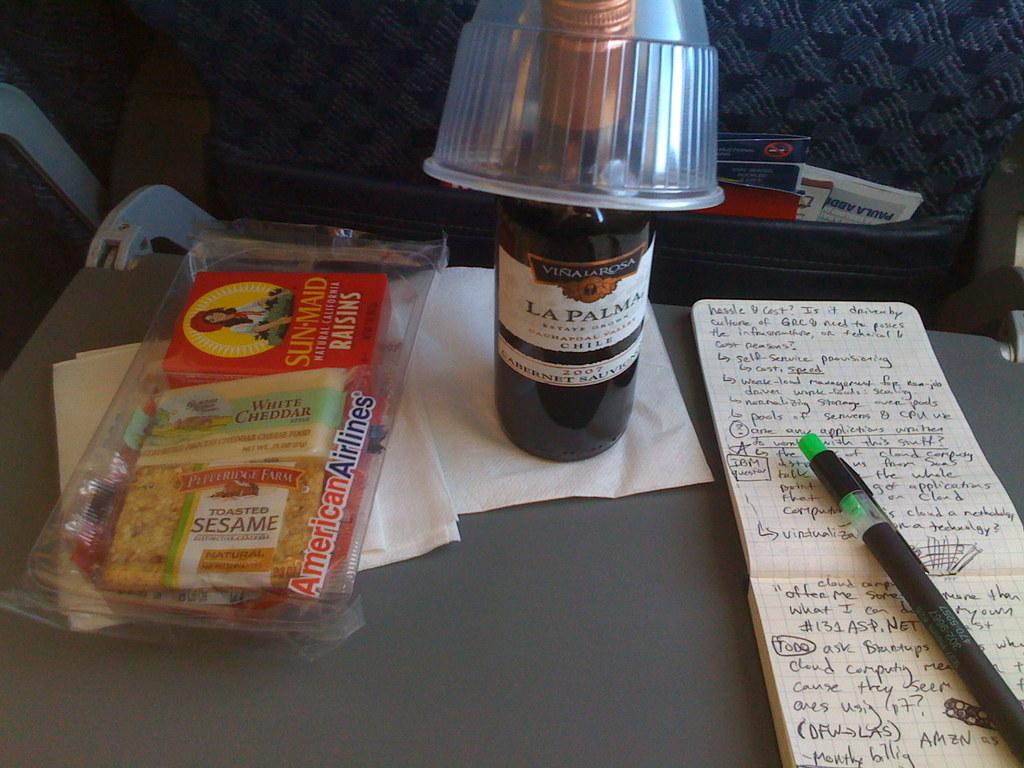pen: (800, 436, 1023, 767)
